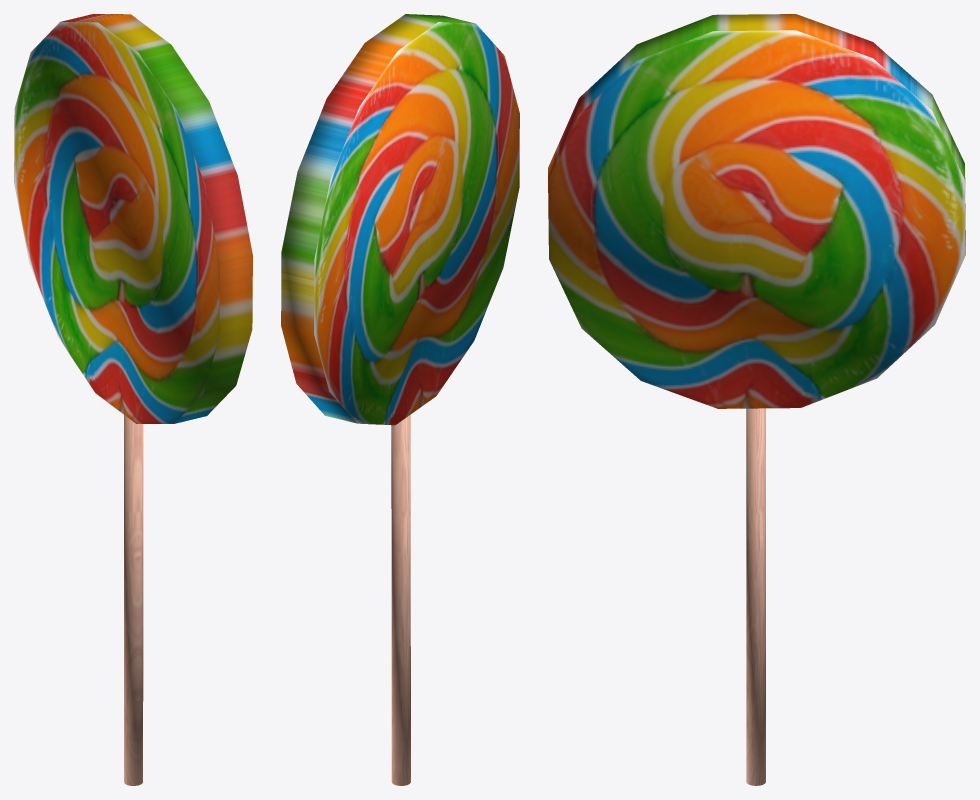
Rendered from BigLollipop.fbx.
The picture shows the model from 3 angles, left to right: view 1: azimuth 30°, elevation 25°; view 2: azimuth 150°, elevation 25°; view 3: azimuth 270°, elevation 25°; orthographic projection.
Visible parts, largest first — view 1: BigLollipop; view 2: BigLollipop; view 3: BigLollipop.
Part boxes in pixels (x1,y1,x2,y2): BigLollipop: [14, 14, 252, 785]; BigLollipop: [281, 14, 519, 785]; BigLollipop: [548, 14, 965, 785].
Bounding box in the file's own units: 0.0168 × 0.3622 × 0.1805.
